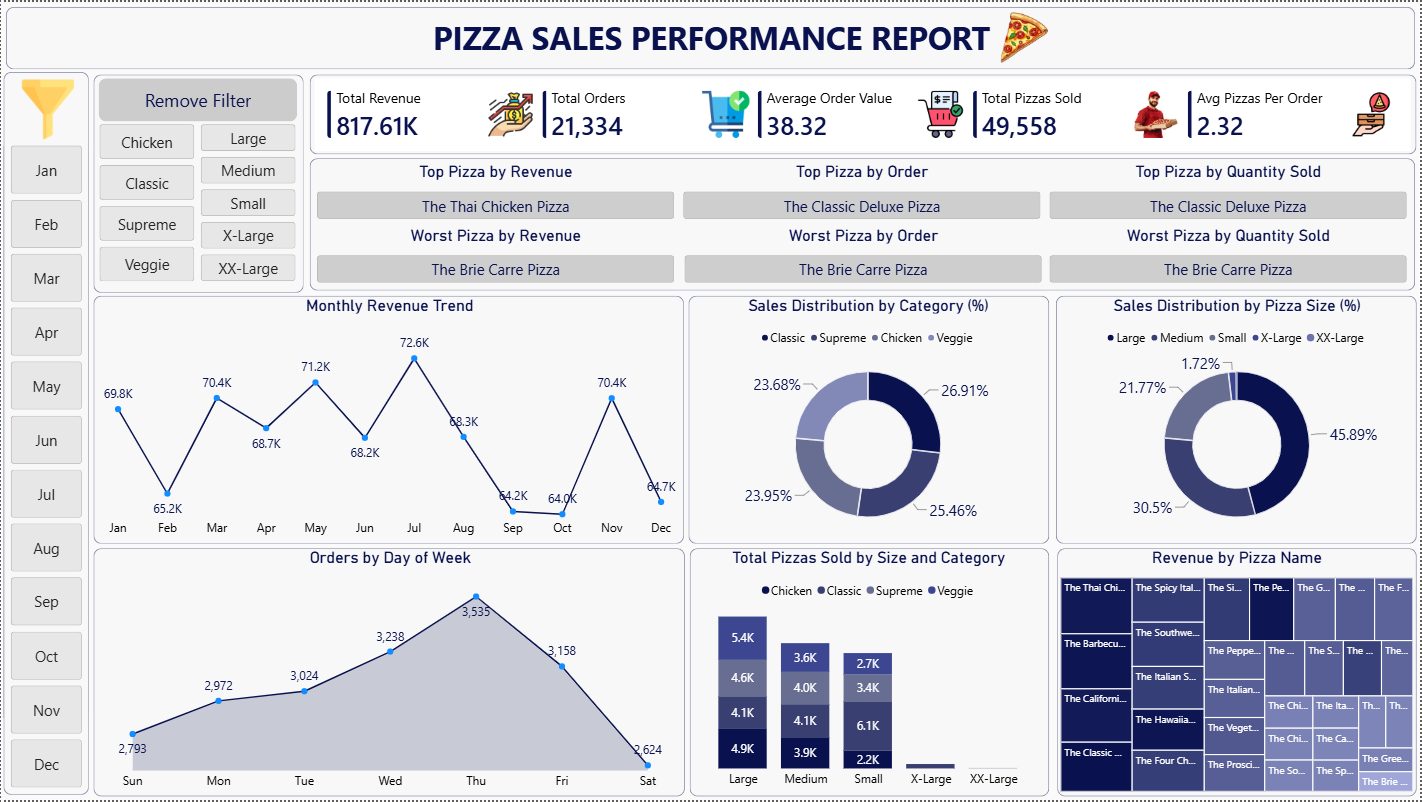

The page's visual inventory and layout, read from the dashboard file:
{"tool":"powerbi","page":{"name":"Pizza Sales Dashboard","canvas":[1920,1080],"ordinal":0},"visuals":[{"type":"shape","box":[125.6,397.3,798.6,335.5],"z":0},{"type":"shape","box":[124.4,739.2,799.7,335.7],"z":1000},{"type":"shape","box":[418.2,97.2,1496.7,108],"z":2000},{"type":"shape","box":[930.4,397.3,487.8,335.5],"z":3000},{"type":"shape","box":[1427,398,487.8,335.5],"z":4000},{"type":"shape","box":[7.3,7.3,1905.8,84.4],"z":5000},{"type":"shape","box":[3.4,94.5,115.6,977.7],"z":6000},{"type":"shape","box":[125,97.2,284.3,295.3],"z":7000},{"type":"shape","box":[418.2,210.9,1494.9,179],"z":8000},{"type":"shape","box":[931.5,739.2,486.1,335.7],"z":9000},{"type":"shape","box":[1428.6,739.2,486.1,335.7],"z":10000},{"type":"cardVisual","fields":{"Data":["PIZZA SALES.Total Revenue","PIZZA SALES.Total Orders","PIZZA SALES.Average Order Value","PIZZA SALES.Total Pizzas Sold","PIZZA SALES.Avg Pizzas Per Order"]},"box":[424.4,103.1,1482.7,98],"z":11000},{"type":"donutChart","title":"Sales Distribution by Category (%)","fields":{"Category":["PIZZA SALES.pizza_category"],"Y":["PIZZA SALES.Total Revenue"]},"box":[930,398,486,335],"z":12000},{"type":"lineChart","title":"Monthly Revenue Trend","fields":{"Category":["PIZZA SALES.Month Name"],"Y":["PIZZA SALES.Total Revenue"]},"box":[126.6,398,797.9,335.7],"z":13000},{"type":"donutChart","title":"Sales Distribution by Pizza Size (%)","fields":{"Y":["PIZZA SALES.Total Revenue"],"Category":["PIZZA SALES.pizza_size"]},"box":[1428.9,398,486,335],"z":14000},{"type":"lineChart","title":"Orders by Day of Week","fields":{"Category":["PIZZA SALES.Day Name"],"Y":["PIZZA SALES.Total Orders"]},"box":[126.6,739.2,799.7,335.7],"z":15000},{"type":"columnChart","title":"Total Pizzas Sold by Size and Category","fields":{"Category":["PIZZA SALES.pizza_size"],"Y":["PIZZA SALES.Total Pizzas Sold"],"Series":["PIZZA SALES.pizza_category"]},"box":[931.8,739.2,484.2,333.8],"z":16000},{"type":"treemap","title":"Revenue by Pizza Name","fields":{"Group":["PIZZA SALES.pizza_name"],"Values":["PIZZA SALES.Total Revenue"]},"box":[1428.9,739.2,486.1,333.8],"z":17000},{"type":"advancedSlicerVisual","title":"Top Pizza by Revenue","fields":{"Values":["PIZZA SALES.pizza_name"]},"box":[423.3,216.2,493,82],"z":18000},{"type":"advancedSlicerVisual","title":"Worst Pizza by Revenue","fields":{"Values":["PIZZA SALES.pizza_name"]},"box":[423.3,302.1,493,82],"z":19000},{"type":"advancedSlicerVisual","title":"Top Pizza by Order","fields":{"Values":["PIZZA SALES.pizza_name"]},"box":[918.5,216.2,493,82],"z":20000},{"type":"advancedSlicerVisual","title":"Worst Pizza by Order","fields":{"Values":["PIZZA SALES.pizza_name"]},"box":[920.4,302.1,493,82],"z":21000},{"type":"advancedSlicerVisual","title":"Top Pizza by Quantity Sold","fields":{"Values":["PIZZA SALES.pizza_name"]},"box":[1413.8,216.2,493,82],"z":22000},{"type":"advancedSlicerVisual","title":"Worst Pizza by Quantity Sold","fields":{"Values":["PIZZA SALES.pizza_name"]},"box":[1413.8,302.4,493,82],"z":23000},{"type":"advancedSlicerVisual","fields":{"Values":["PIZZA SALES.Month Name"]},"box":[9.2,188.9,106.4,880.4],"z":24000},{"type":"advancedSlicerVisual","fields":{"Values":["PIZZA SALES.pizza_category"]},"box":[128.4,161.2,138,225],"z":25000},{"type":"advancedSlicerVisual","fields":{"Values":["PIZZA SALES.pizza_size"]},"box":[266,161.2,138,225],"z":26000},{"type":"image","box":[11,104.6,102.7,80.7],"z":27000},{"type":"textbox","box":[11,12.8,1898.4,73.4],"z":28000},{"type":"image","box":[1339,9.2,86.2,80.7],"z":29000},{"type":"actionButton","box":[132.1,102.7,269,58.7],"z":29001}]}

Visuals, with their boxes in screenshot pixels (x1, y1, x2, y2), scaled from the page's 1920x1080 canvas onto the 1422x802 screenshot:
shape: 93, 295, 684, 544
shape: 92, 549, 684, 798
shape: 310, 72, 1418, 152
shape: 689, 295, 1050, 544
shape: 1057, 296, 1418, 545
shape: 5, 5, 1417, 68
shape: 3, 70, 88, 796
shape: 93, 72, 303, 291
shape: 310, 157, 1417, 290
shape: 690, 549, 1050, 798
shape: 1058, 549, 1418, 798
cardVisual - PIZZA SALES.Total Revenue x PIZZA SALES.Total Orders: 314, 77, 1412, 149
"Sales Distribution by Category (%)" donutChart: 689, 296, 1049, 544
"Monthly Revenue Trend" lineChart: 94, 296, 685, 545
"Sales Distribution by Pizza Size (%)" donutChart: 1058, 296, 1418, 544
"Orders by Day of Week" lineChart: 94, 549, 686, 798
"Total Pizzas Sold by Size and Category" columnChart: 690, 549, 1049, 797
"Revenue by Pizza Name" treemap: 1058, 549, 1418, 797
"Top Pizza by Revenue" advancedSlicerVisual: 314, 161, 679, 221
"Worst Pizza by Revenue" advancedSlicerVisual: 314, 224, 679, 285
"Top Pizza by Order" advancedSlicerVisual: 680, 161, 1045, 221
"Worst Pizza by Order" advancedSlicerVisual: 682, 224, 1047, 285
"Top Pizza by Quantity Sold" advancedSlicerVisual: 1047, 161, 1412, 221
"Worst Pizza by Quantity Sold" advancedSlicerVisual: 1047, 225, 1412, 285
advancedSlicerVisual - PIZZA SALES.Month Name: 7, 140, 86, 794
advancedSlicerVisual - PIZZA SALES.pizza_category: 95, 120, 197, 287
advancedSlicerVisual - PIZZA SALES.pizza_size: 197, 120, 299, 287
image: 8, 78, 84, 138
textbox: 8, 10, 1414, 64
image: 992, 7, 1056, 67
actionButton: 98, 76, 297, 120
